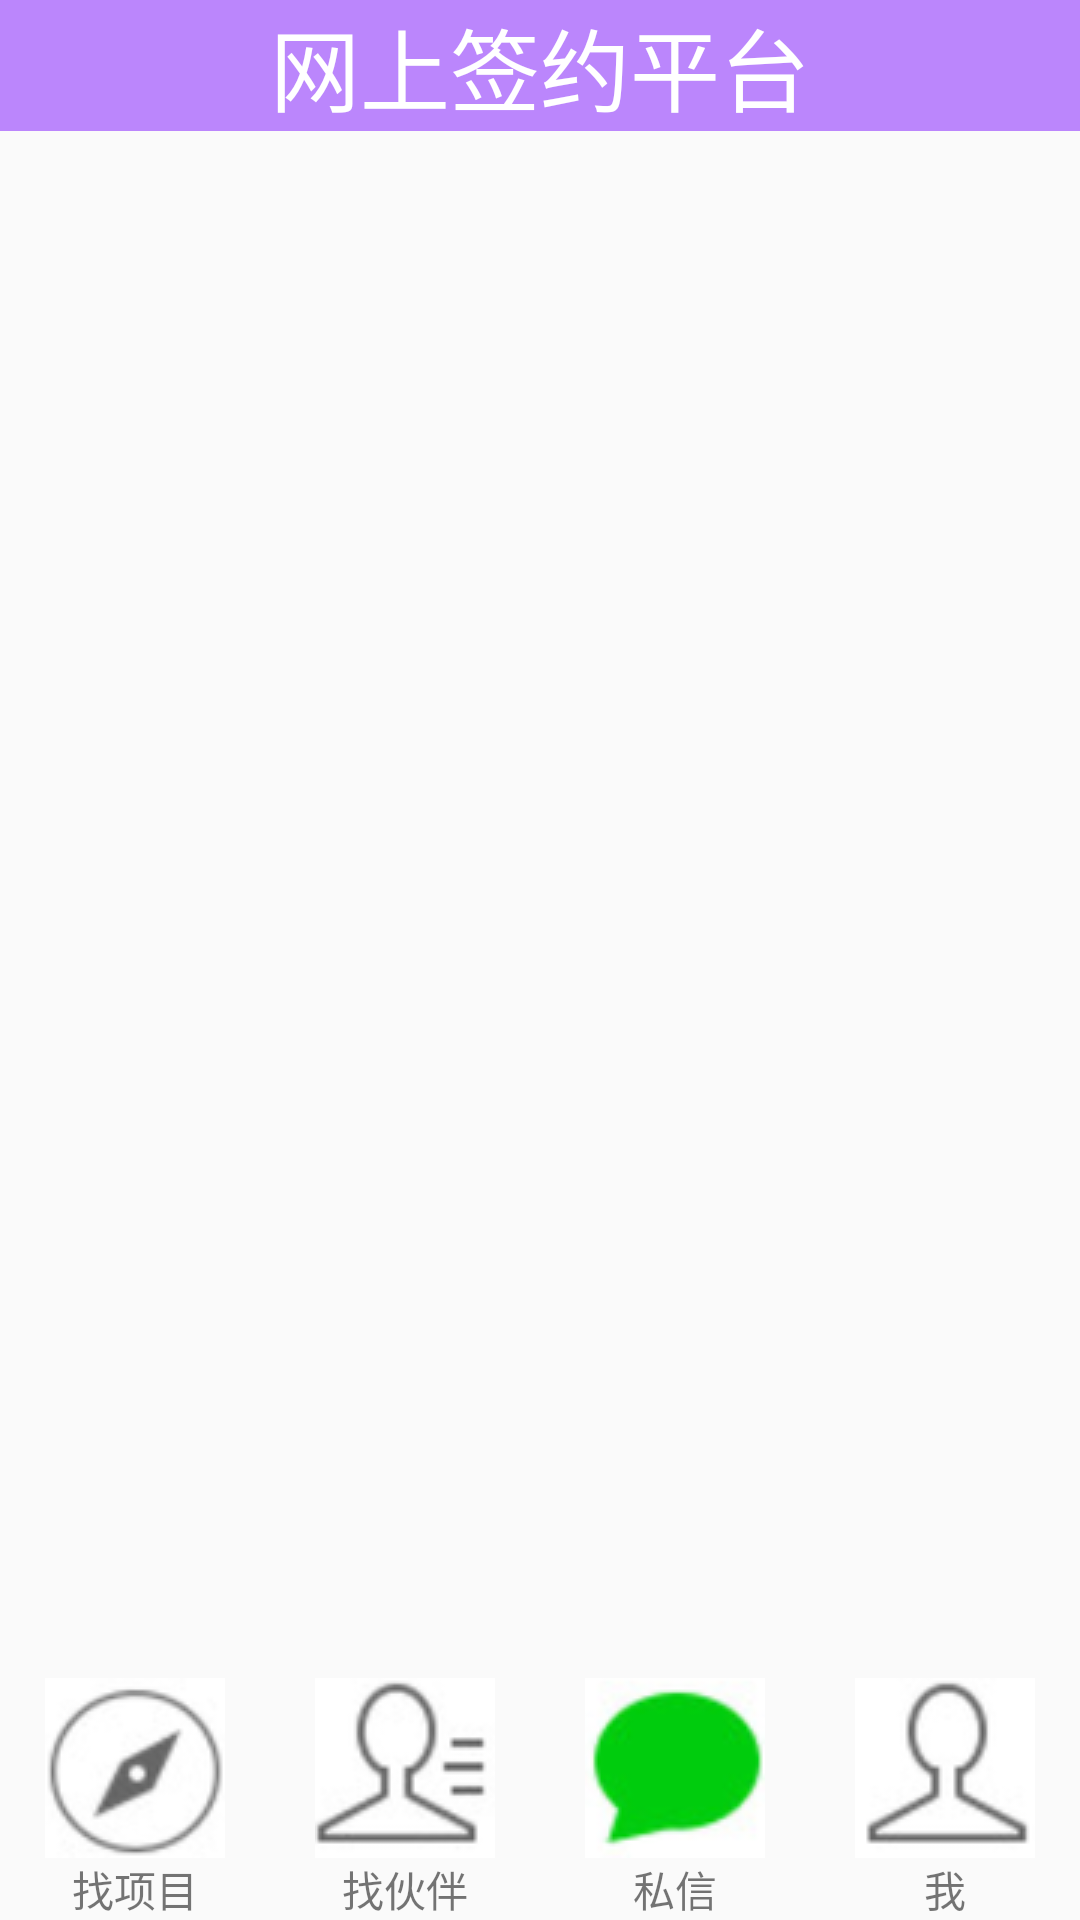

Icon bounding boxes for this 1080 × 1920 phone screenshot, format (x1, y1, x2, y2):
people: (315, 1683, 485, 1844)
